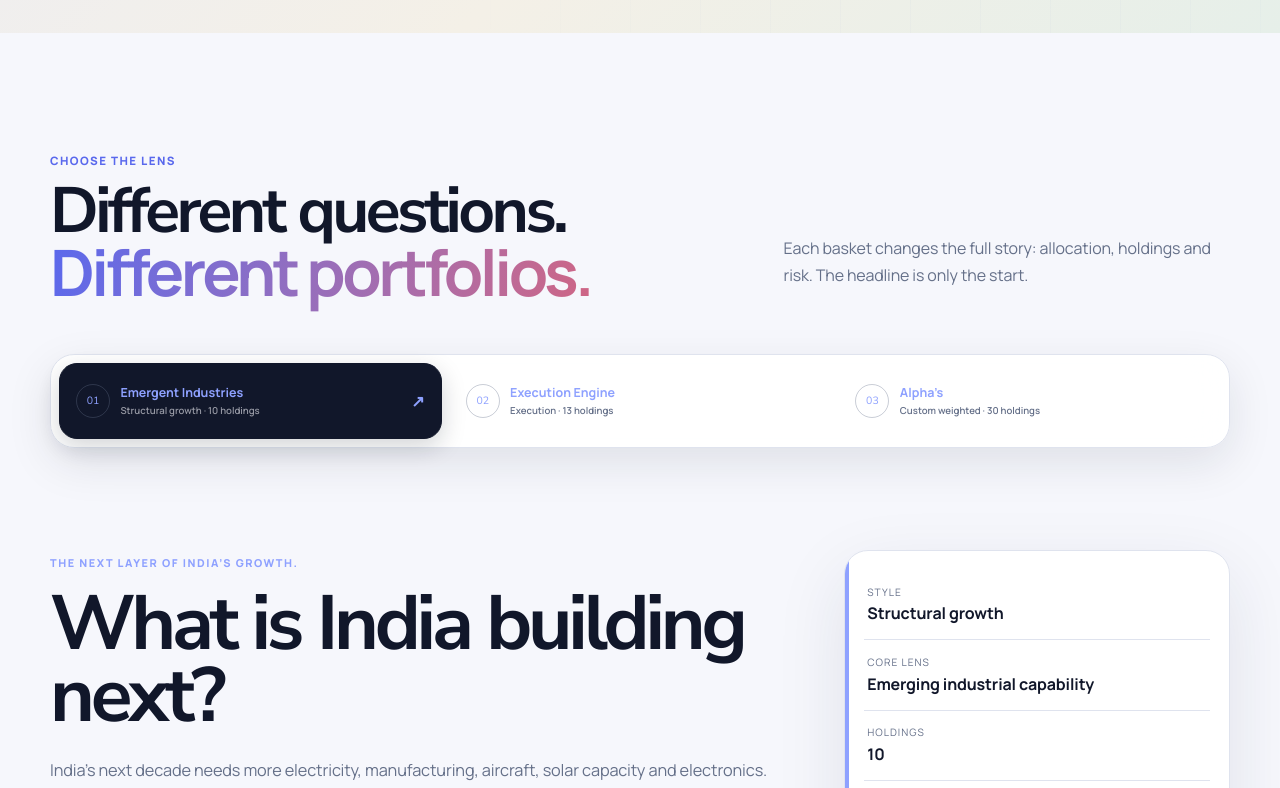
Test: Smallcases journey › switches to Alpha's and reveals its portfolio holdings
The image size is (1280, 788).
(page scrolled)
Click the tab "03 Alpha’s Custom weighted · 30 holdings" at (872, 401), box [838,363,1221,439]
(page scrolled)
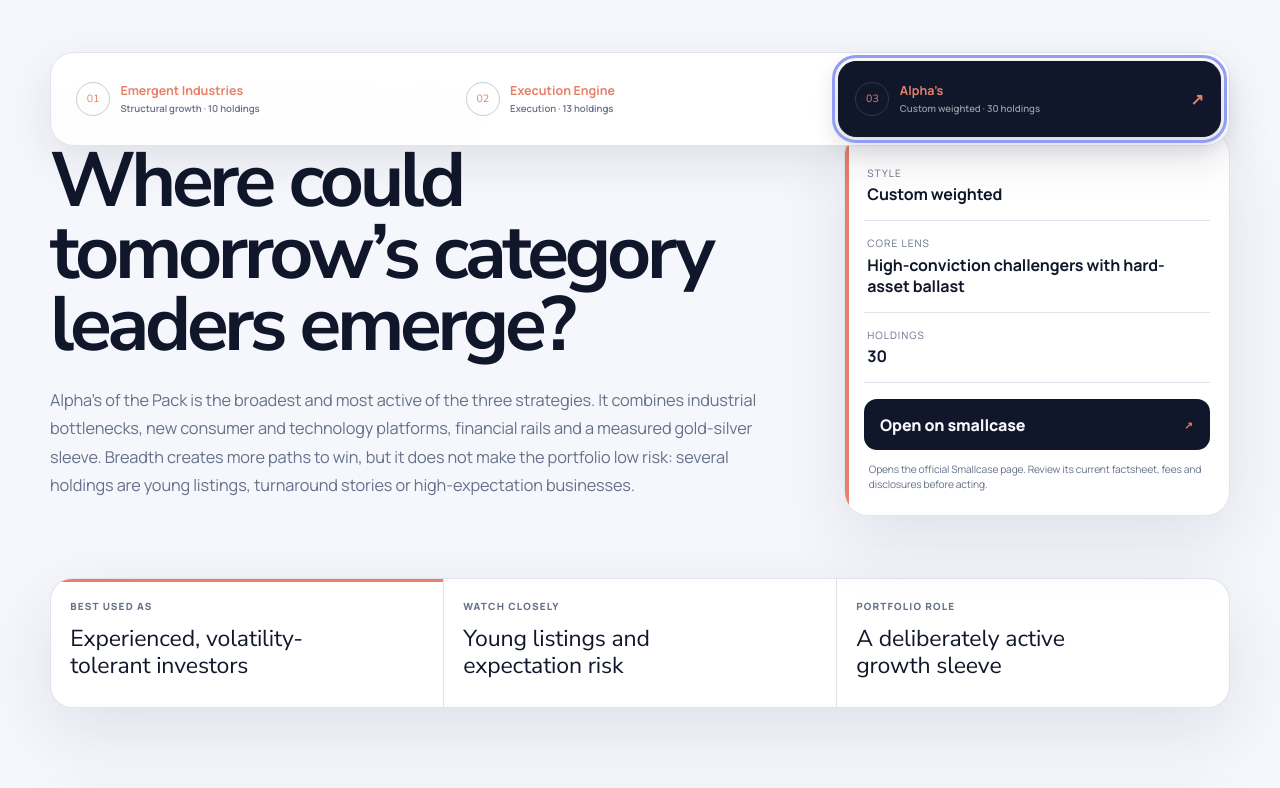
Expected: the heading "Where could tomorrow’s category leaders emerge?" is shown, [50,145,767,362]
